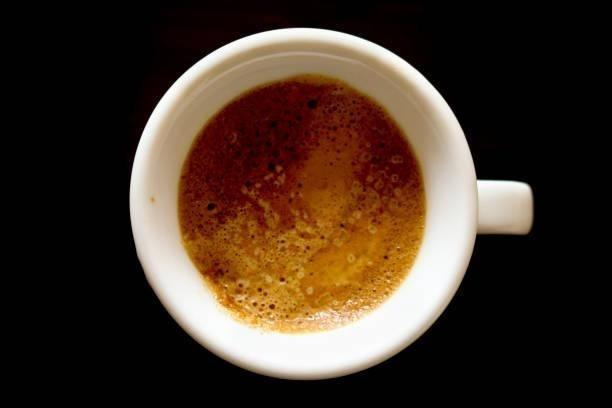cup-handle: (130, 23, 533, 384)
